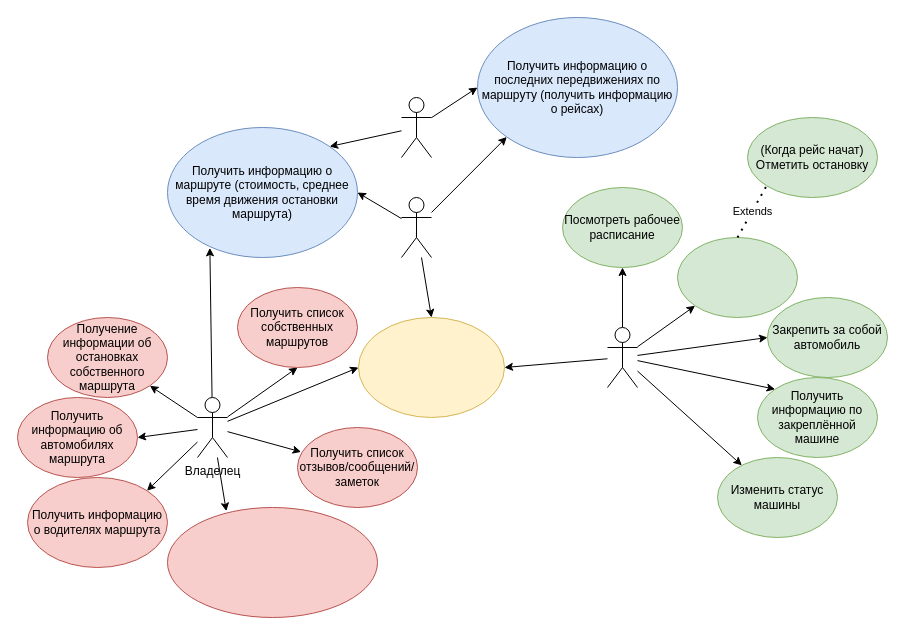
The diagram is 905 pixels wide and 635 high, and some of its shapes have lost their labels. The box of each missing label's shape, as (x1, y1, x2, y2) in pixels:
Водитель: (606, 326, 638, 388)
Гость: (400, 96, 432, 158)
Начать/завершить рейс: (676, 236, 798, 318)
Оставить отзыв/информацию/заметку (пассажир/водитель/владелец) владельцу: (358, 316, 504, 418)
Пассажир: (400, 196, 432, 258)
Редактирование маршрутов и их составляющих (машин, водителей и остановок): (166, 506, 378, 618)
